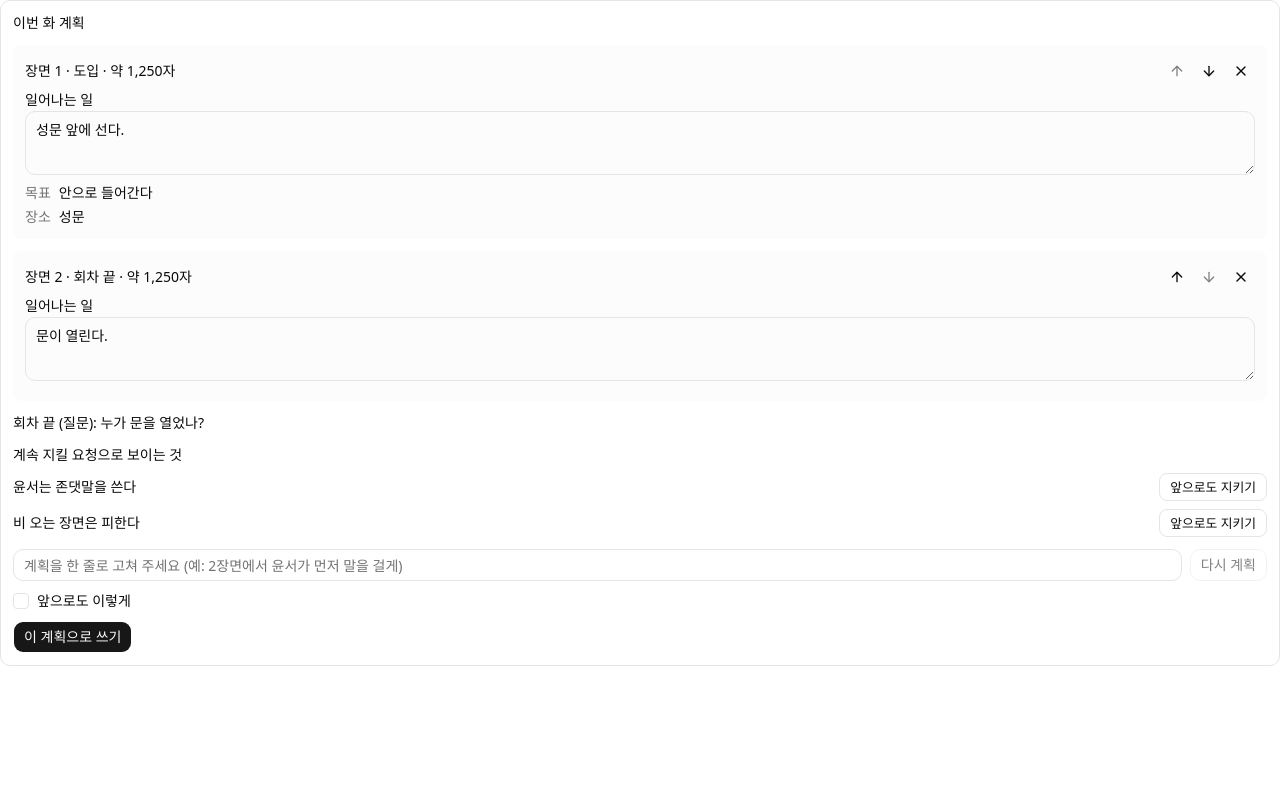
Test: DraftPlanCardView requests (stage 2) › keeps a suggested request with source suggested and shows it is kept
Expected: the text "계속 지킬 요청으로 보이는 것" is shown, [13,445,182,464]
Click the button "앞으로도 지키기" in the row of "윤서는 존댓말을 쓴다" at (1213, 487), box [1159,473,1267,501]
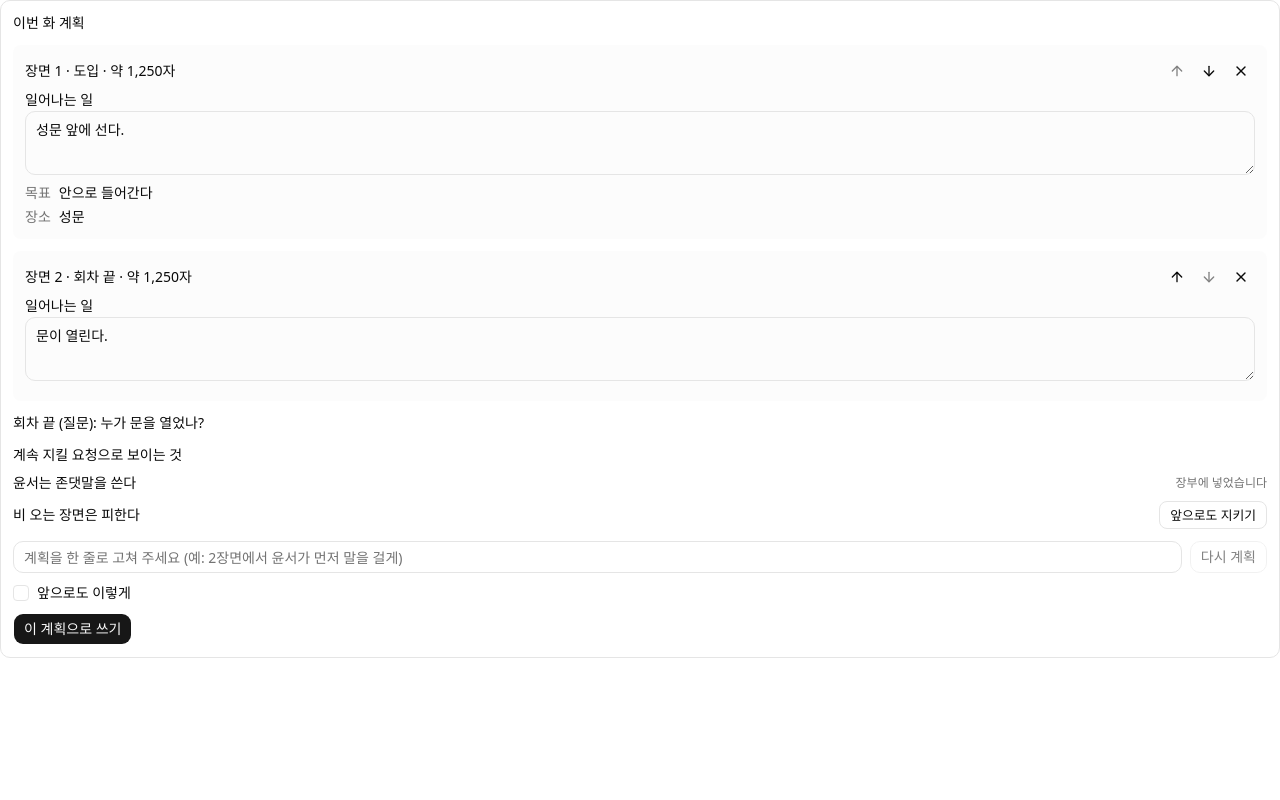
Expected: the text "장부에 넣었습니다" is shown, [1176,475,1267,491]
